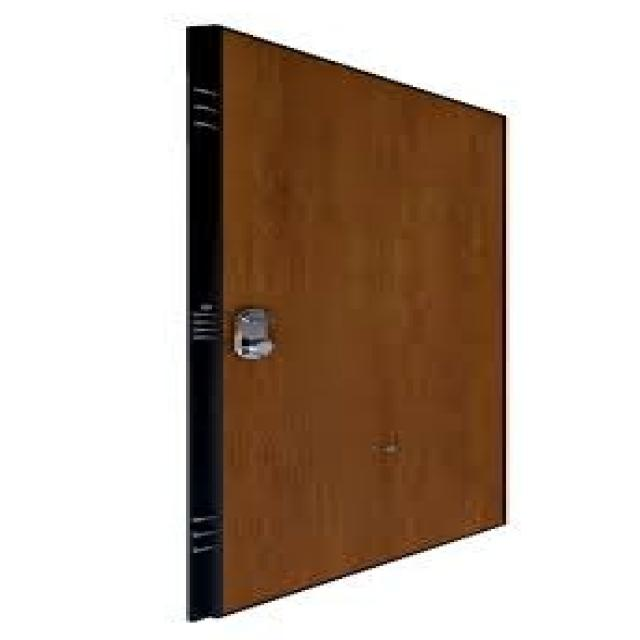door: (186, 26, 510, 623)
